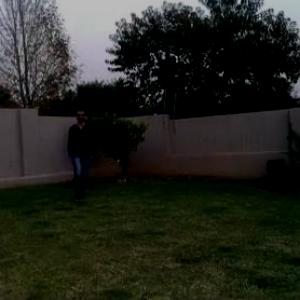follow: (68, 109, 95, 200)
